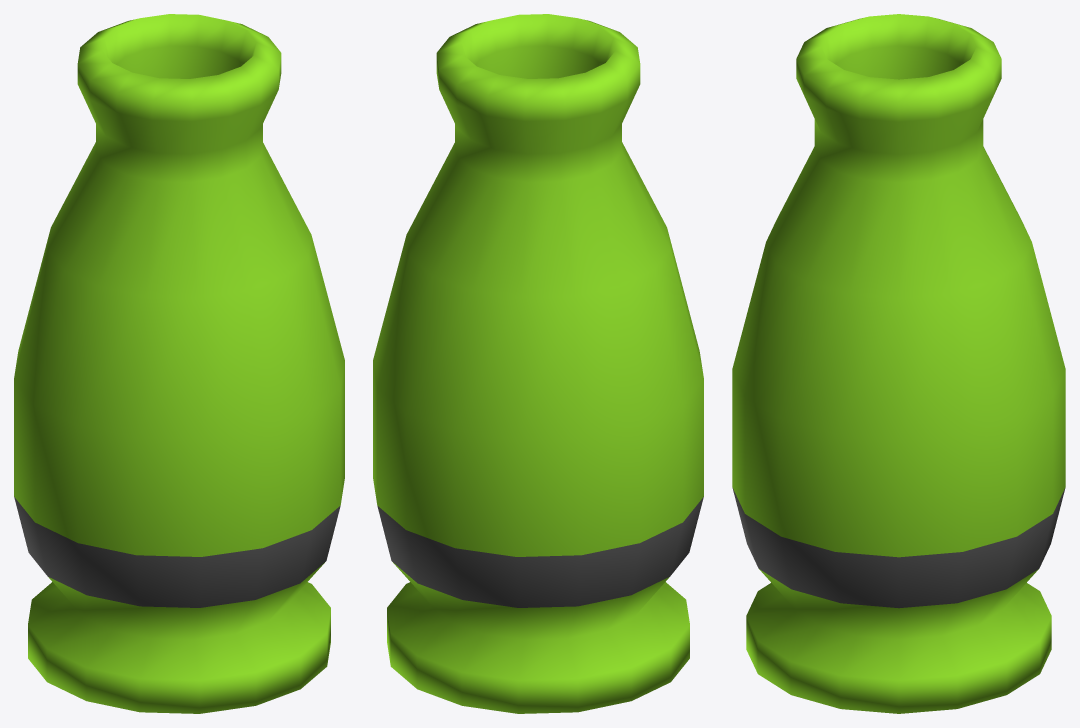
File: vase.fbx
The picture shows the model from 3 angles, left to right: view 1: azimuth 30°, elevation 25°; view 2: azimuth 150°, elevation 25°; view 3: azimuth 270°, elevation 25°; orthographic projection.
Visible parts, largest first — view 1: Vase; view 2: Vase; view 3: Vase.
Boxes of the visible parts, x1,y1,x2,y2 form: Vase: (14,14,344,713); Vase: (373,14,703,713); Vase: (732,14,1065,713).
Size of the model in its own units: 21.45 by 21.45 by 42.77.
